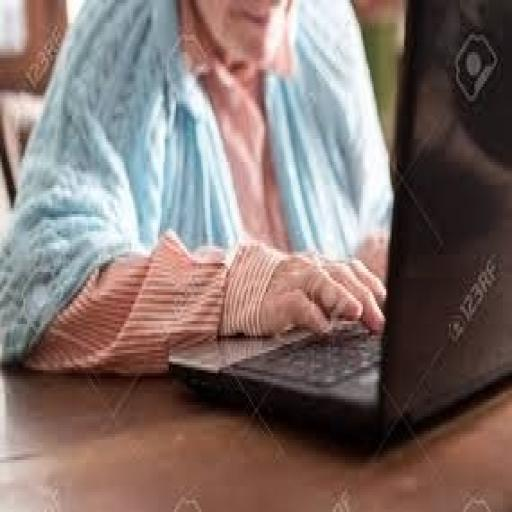using_laptop: (165, 0, 510, 448)
